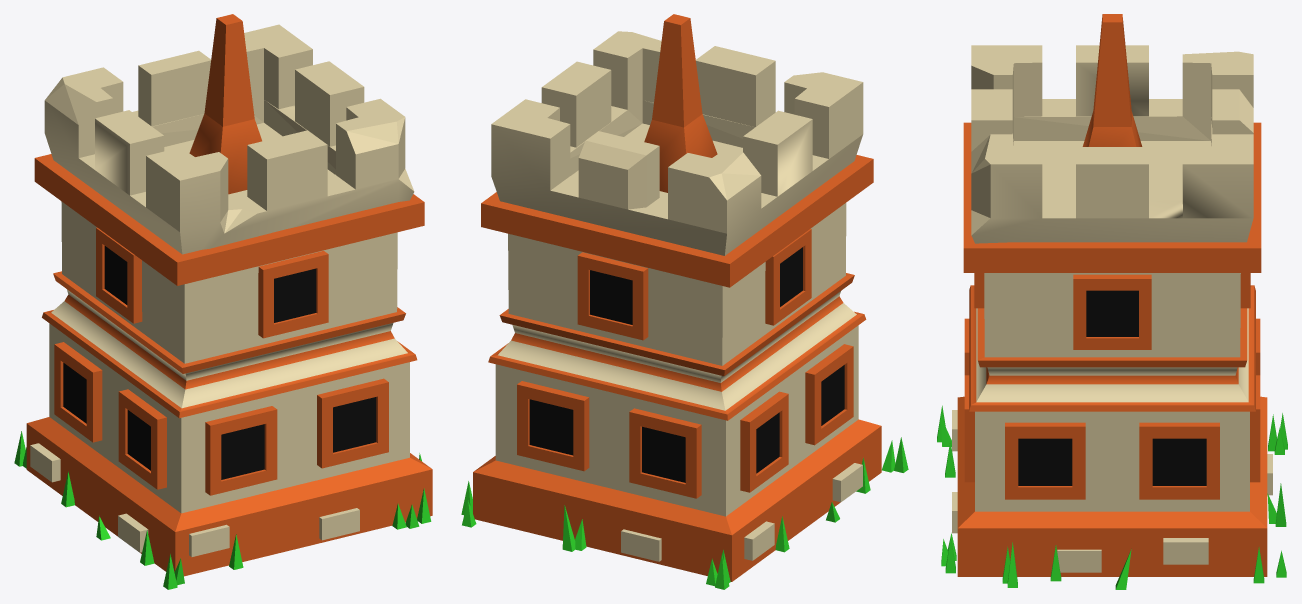
The model's file is Tower lvl3.fbx.
3 renders of one model, left to right at view 1: azimuth 30°, elevation 25°; view 2: azimuth 150°, elevation 25°; view 3: azimuth 270°, elevation 25°, orthographic. The views are drawn at different scales.
Visible parts, largest first — view 1: Turret Tower 01, Turret Tower 01.001; view 2: Turret Tower 01, Turret Tower 01.001; view 3: Turret Tower 01, Turret Tower 01.001.
Part boxes in pixels (<box>): Turret Tower 01: <box>14,24,432,589</box>; Turret Tower 01.001: <box>189,14,261,194</box>; Turret Tower 01: <box>461,31,908,589</box>; Turret Tower 01.001: <box>644,14,717,192</box>; Turret Tower 01: <box>937,45,1287,589</box>; Turret Tower 01.001: <box>1082,14,1142,146</box>.
Size of the model in its own units: 397 by 598 by 386.
